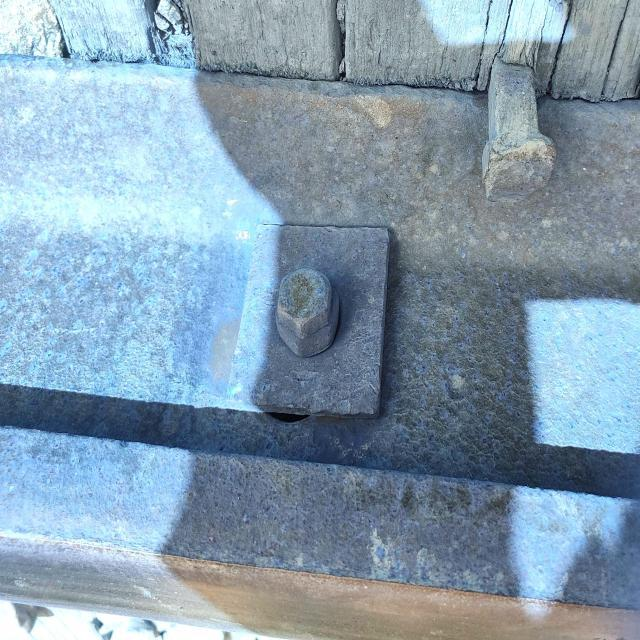Good Fasteners: (482, 57, 555, 203)
